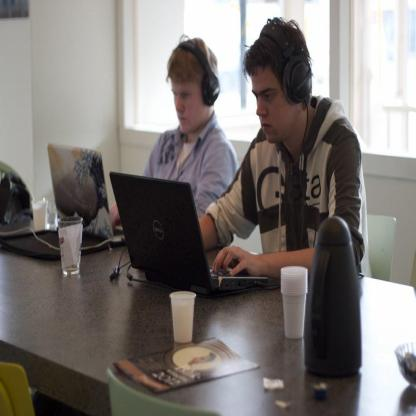board: (109, 172, 268, 295), (46, 144, 125, 246)
